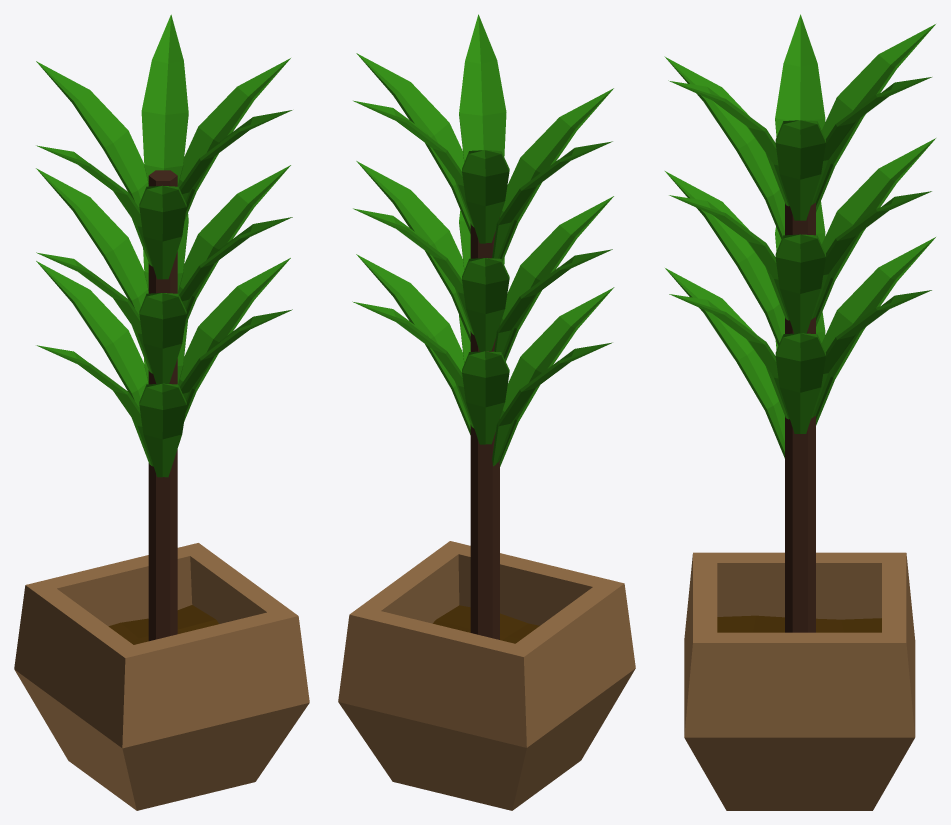
The model's file is P_Plant.fbx.
3 renders of one model, left to right at view 1: azimuth 30°, elevation 25°; view 2: azimuth 150°, elevation 25°; view 3: azimuth 270°, elevation 25°, orthographic. The views are drawn at different scales.
Visible parts, largest first — view 1: P_Plant; view 2: P_Plant; view 3: P_Plant.
Part boxes in pixels (x1,y1,x2,y2): P_Plant: (14, 14, 309, 810); P_Plant: (338, 14, 635, 810); P_Plant: (664, 14, 935, 810).
Bounding box in the file's own units: 321 × 277 × 831.
